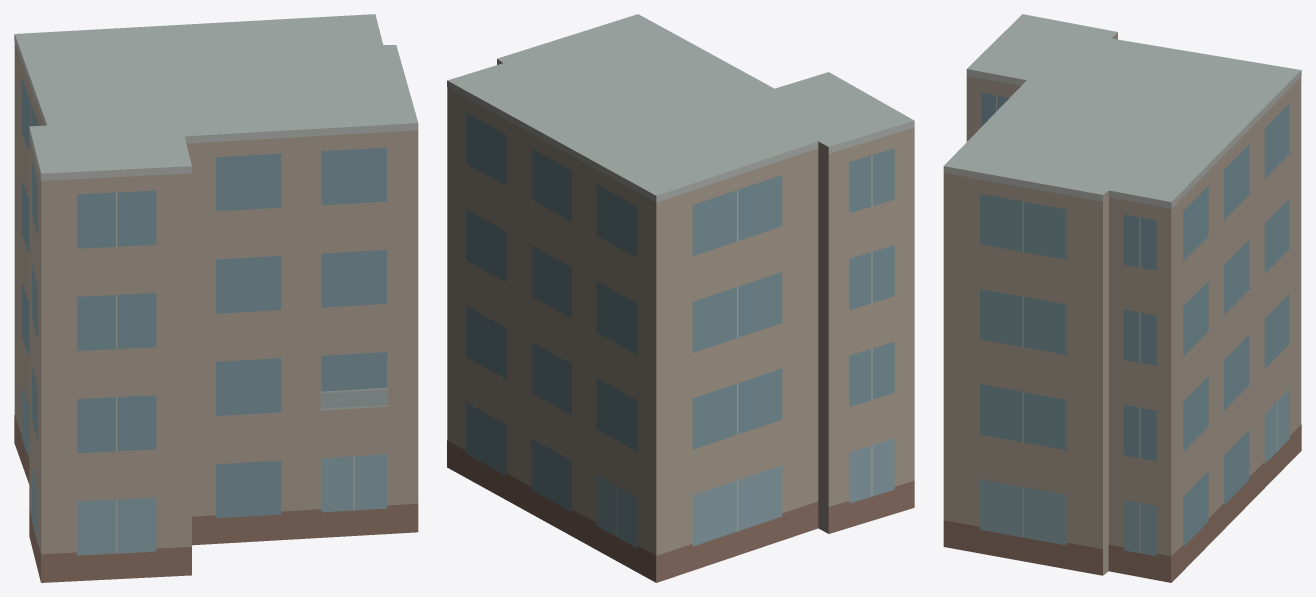
The model's file is survey-upis-32491787.glb.
The picture shows the model from 3 angles, left to right: view 1: azimuth 30°, elevation 25°; view 2: azimuth 150°, elevation 25°; view 3: azimuth 270°, elevation 25°; orthographic projection. The views are drawn at different scales.
Parts seen in each view (by area): view 1: survey-upis-32491787.tmp; view 2: survey-upis-32491787.tmp; view 3: survey-upis-32491787.tmp.
Boxes of the visible parts, x1,y1,x2,y2 form: survey-upis-32491787.tmp: (14,14,418,582); survey-upis-32491787.tmp: (447,14,914,582); survey-upis-32491787.tmp: (943,14,1301,582).
Bounding box in the file's own units: 14.63 × 13.8 × 11.76.
